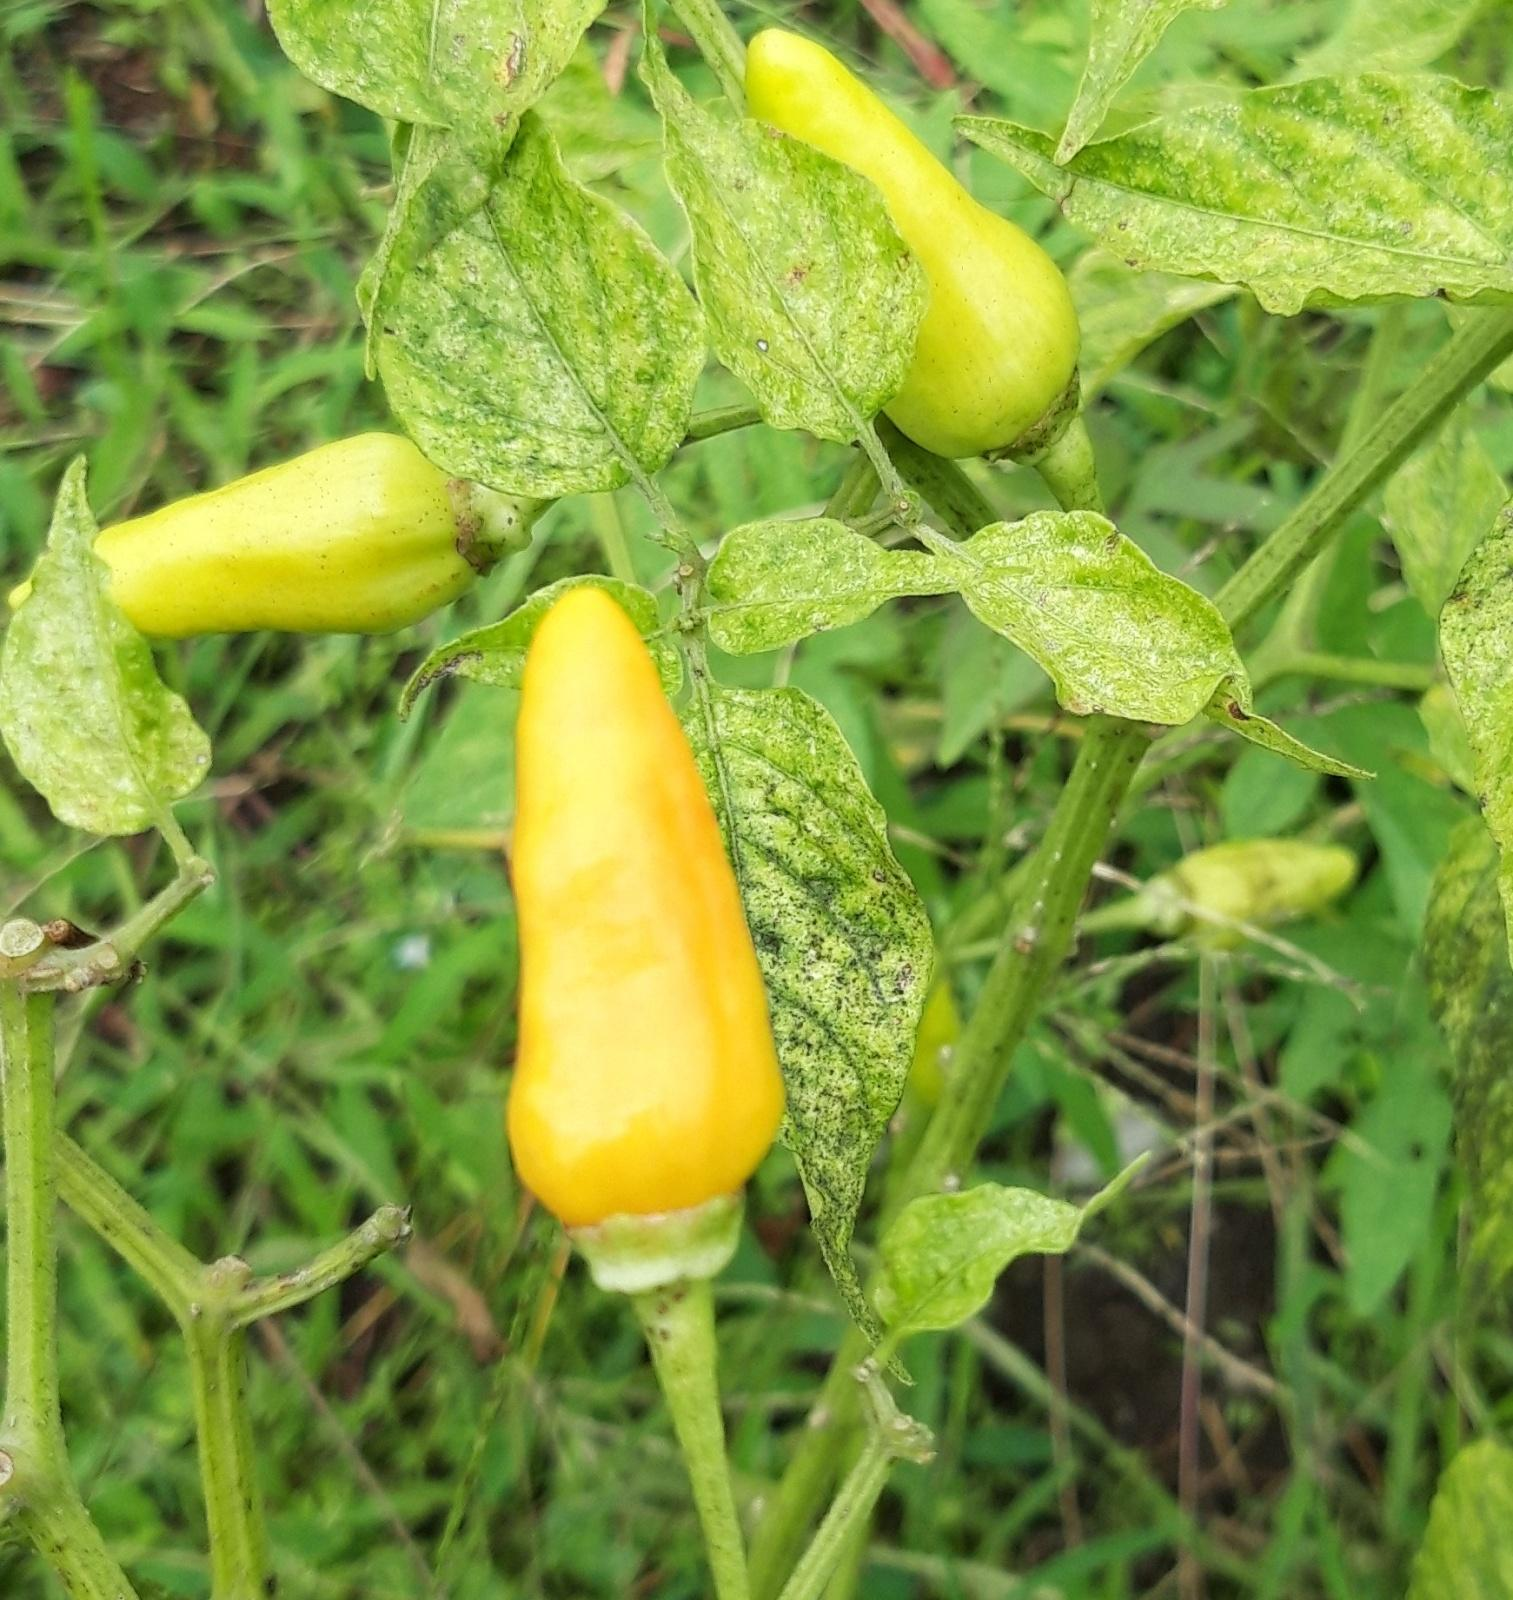cabai_normal: (509, 586, 785, 1219), (741, 27, 1082, 452), (1, 434, 483, 636), (1163, 838, 1358, 930)
